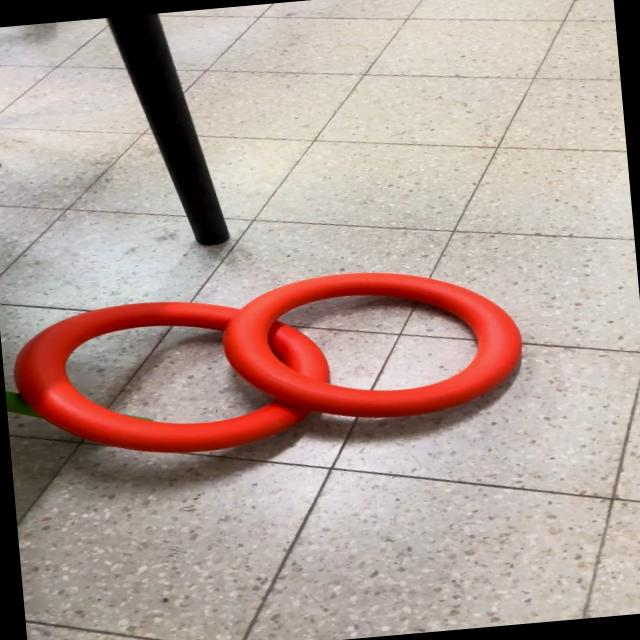note: (5, 256, 532, 470)
